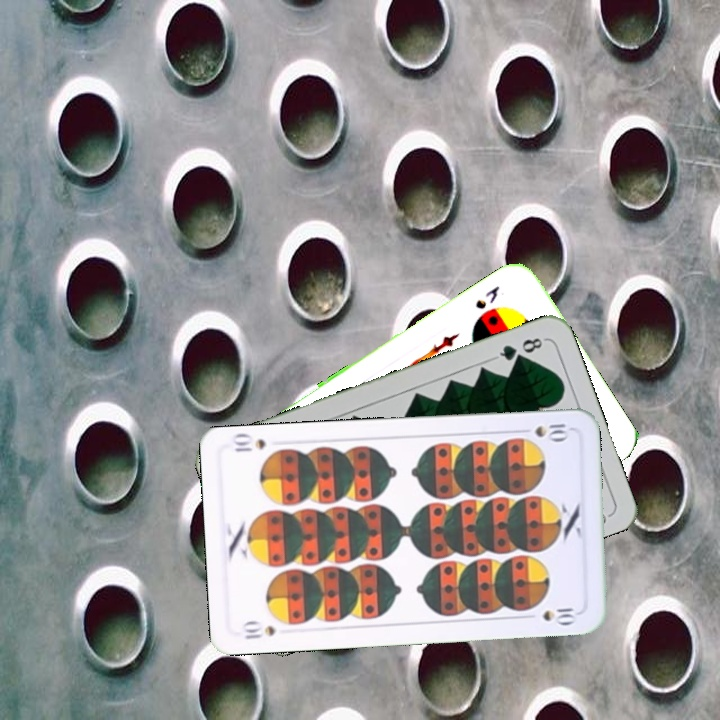G8: (491, 333, 548, 364)
S10: (514, 419, 573, 443), (238, 618, 279, 642)
SK: (471, 281, 502, 312)
